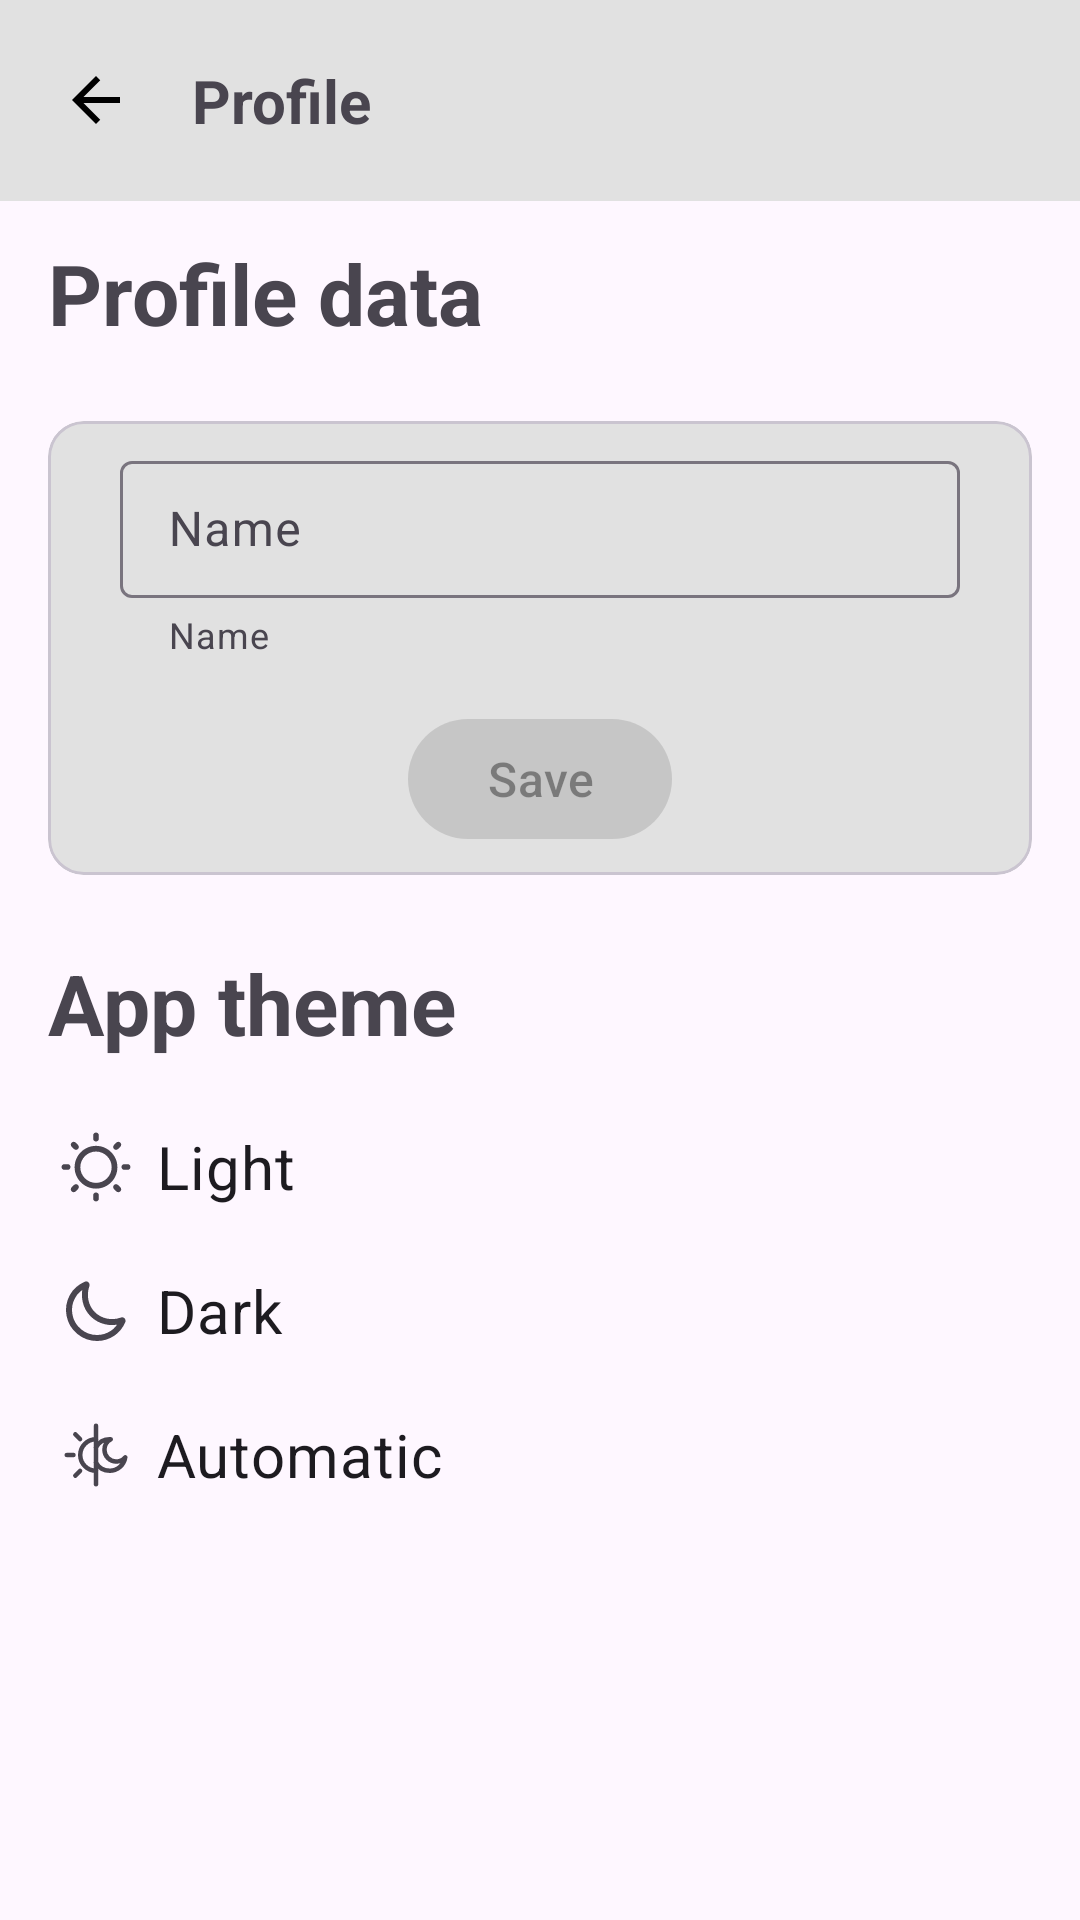

Where to tap for icons on this 1080 × 1920 app screen, as [x,y]:
arrow back: [96,100]
